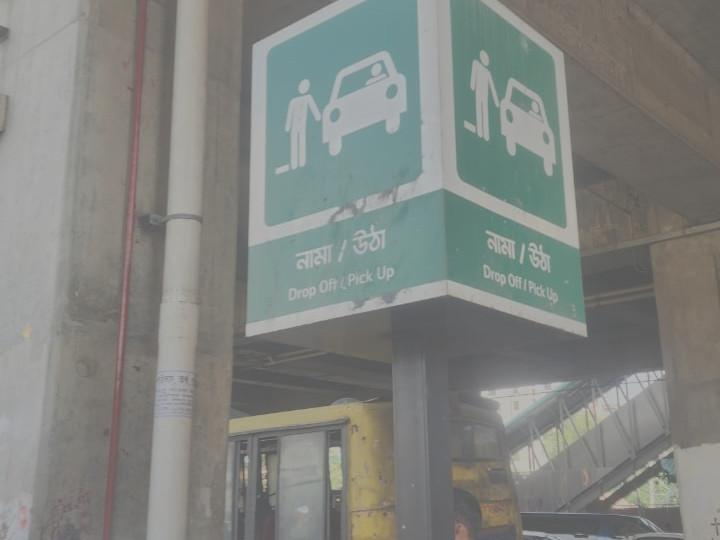Metro Dorp Up Pick up: (248, 1, 585, 352)
